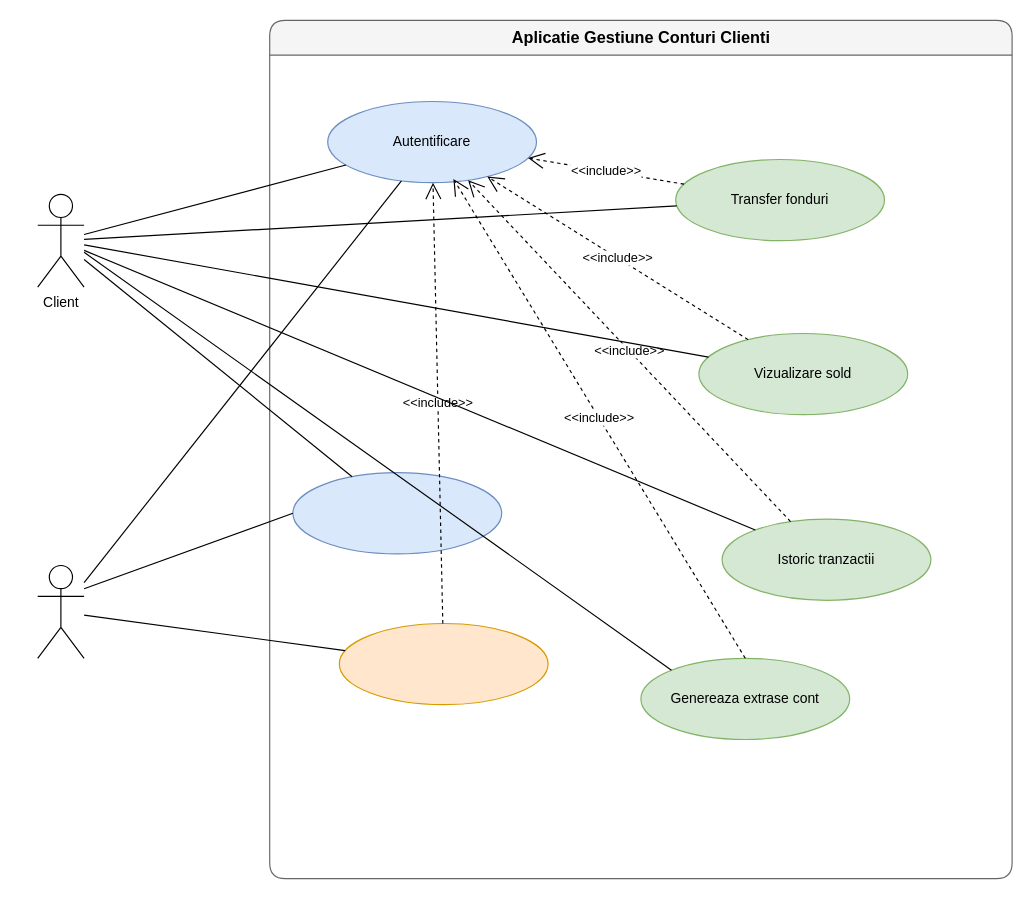
Some shapes in this 1032 by 899 pixel diagram are drawn without their labels. The shapes that lost their labels are listed below. From the top down, each one's centre as x and y in pixels, then its label:
point (397, 513): Delogare
point (60, 611): Administrator
point (443, 663): Vizualizeaza Rapoarte
